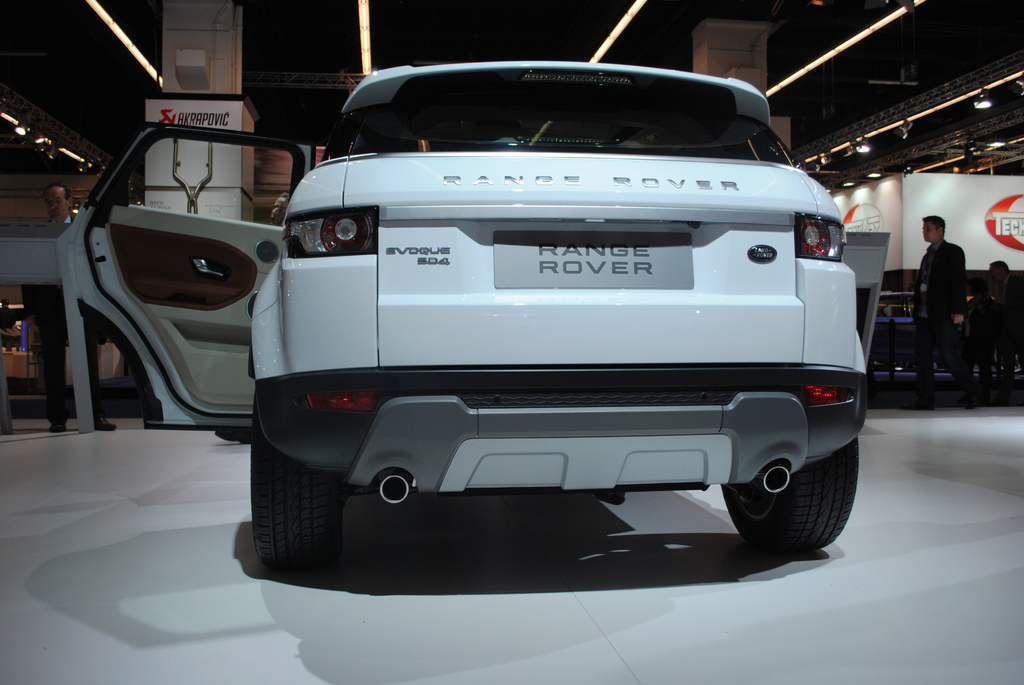person: (37, 180, 76, 224)
